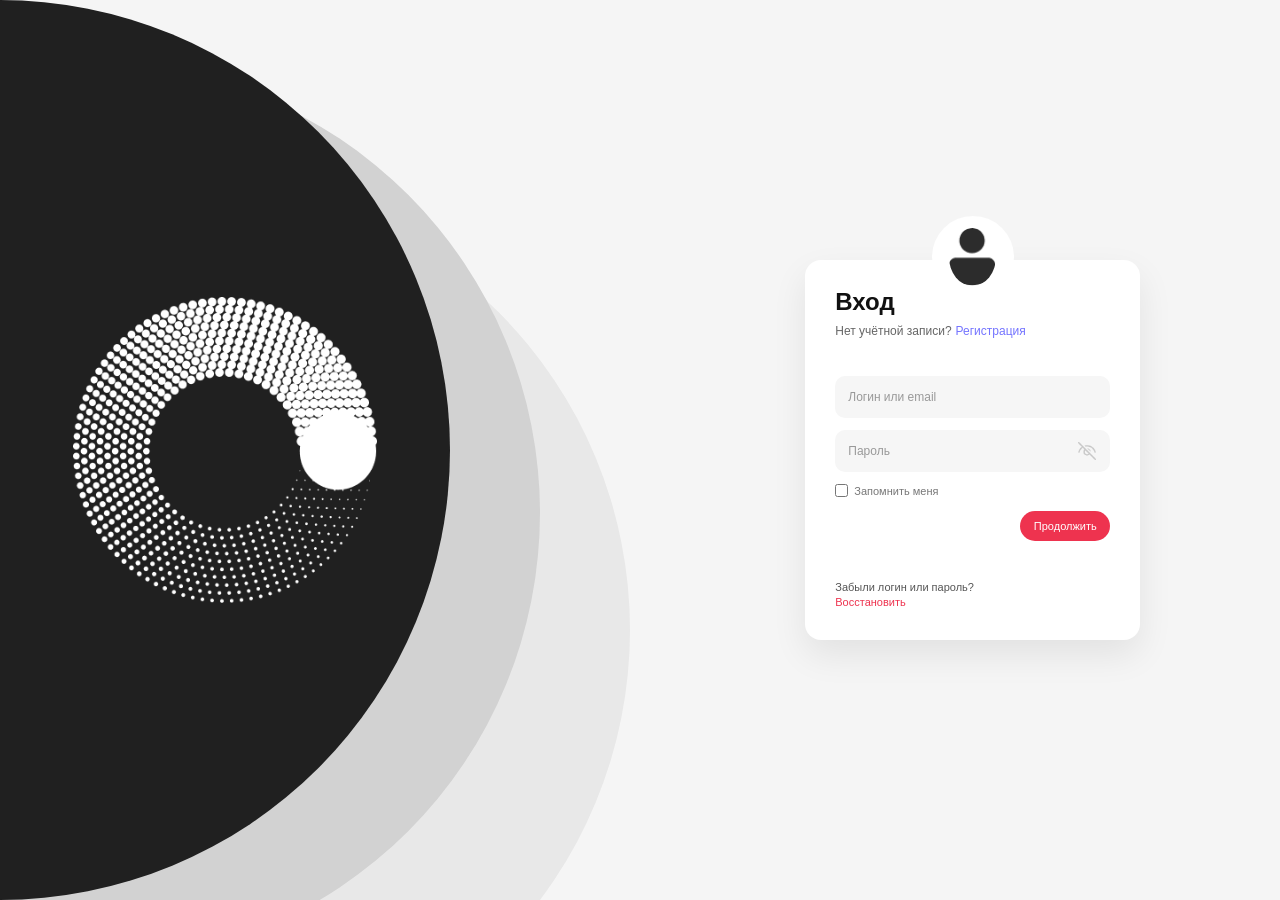
connected app › shows invalid credentials, keeps the form and supports password visibility
The image size is (1280, 900).
Type "ivan" into the field labelled "Логин или email" at {"x": 973, "y": 397}, box [835, 376, 1110, 418]
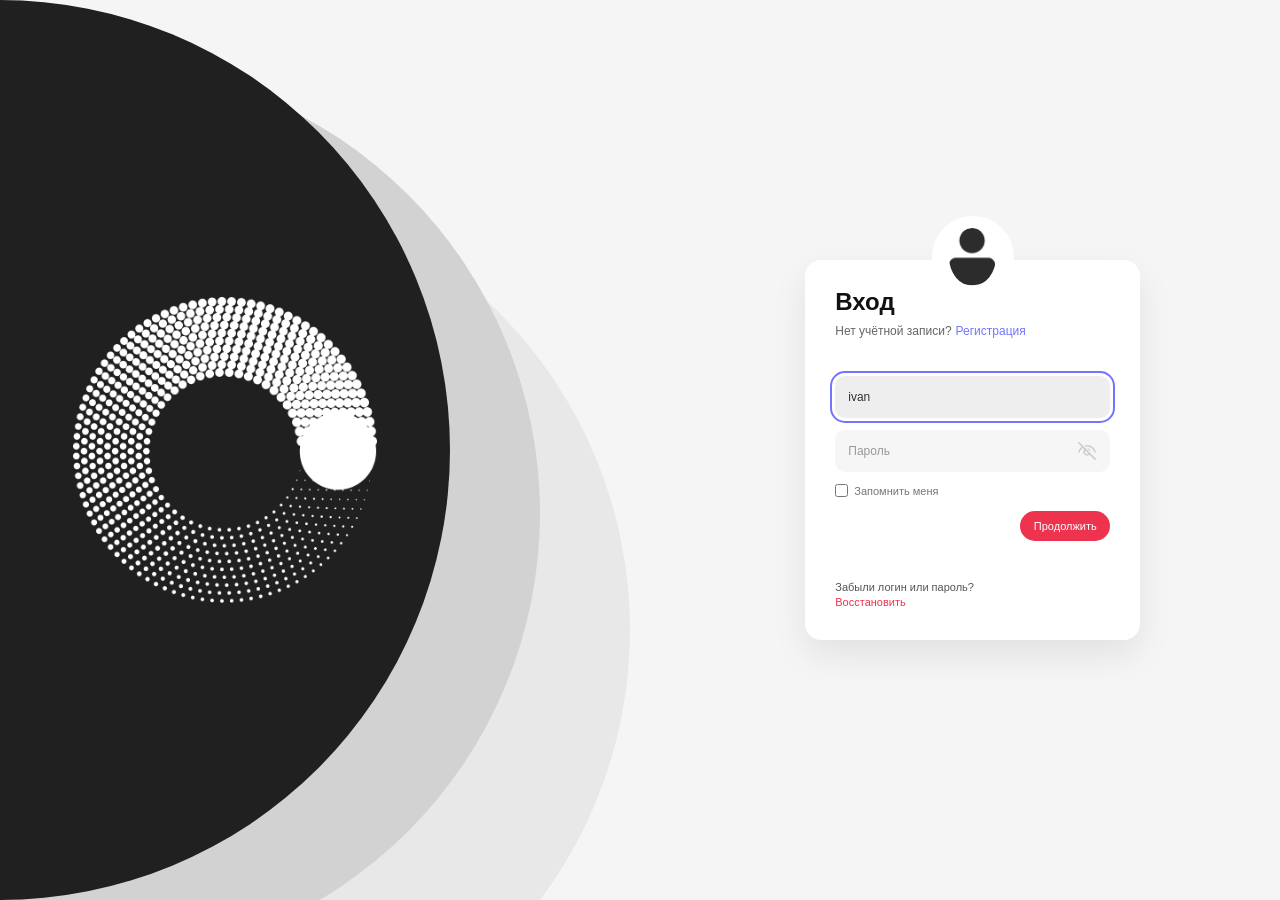
Type "wrong" into the password field labelled "Пароль" at {"x": 973, "y": 451}, box [835, 430, 1110, 472]
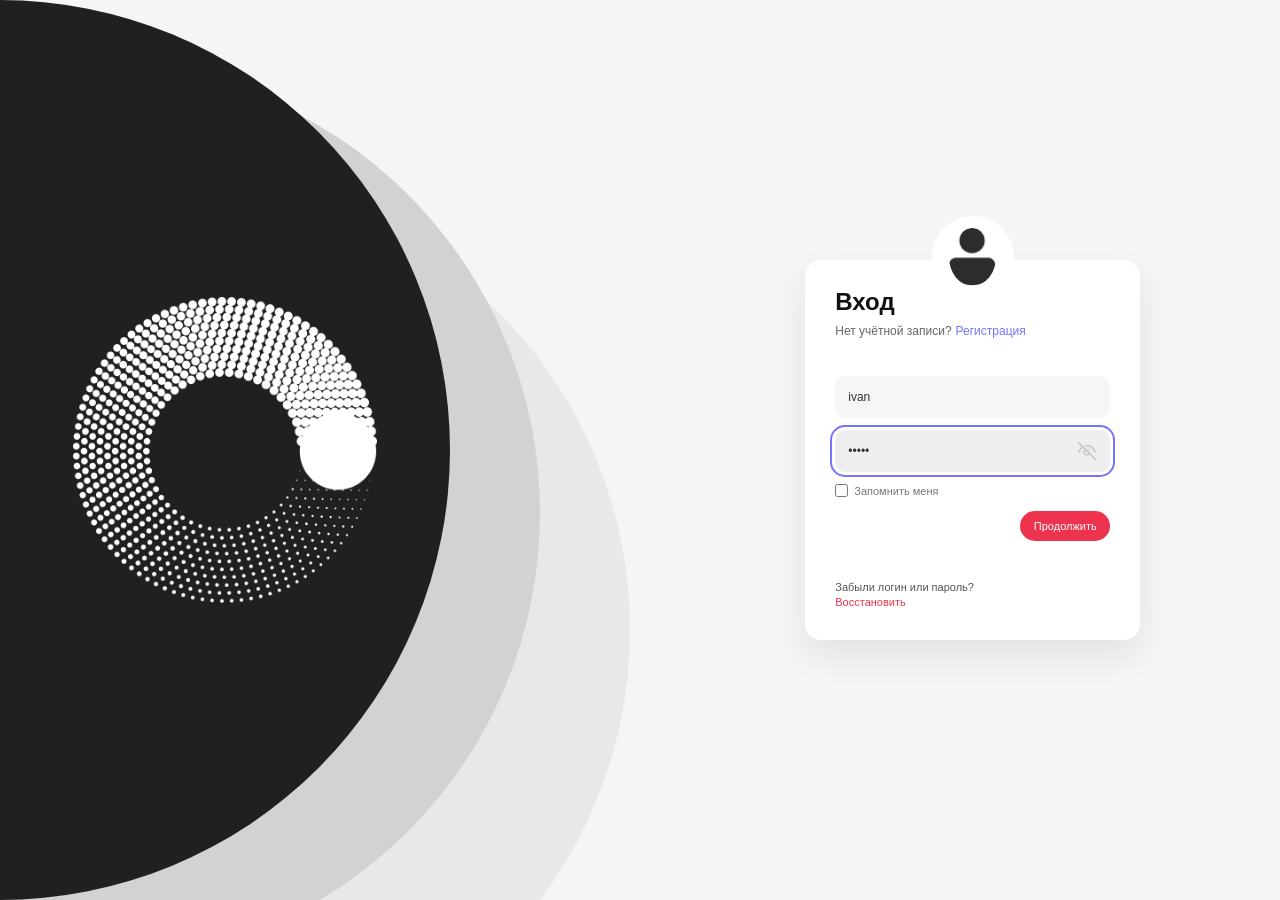
Click the button named "Показать пароль" at {"x": 1087, "y": 451}, box [1076, 440, 1098, 462]
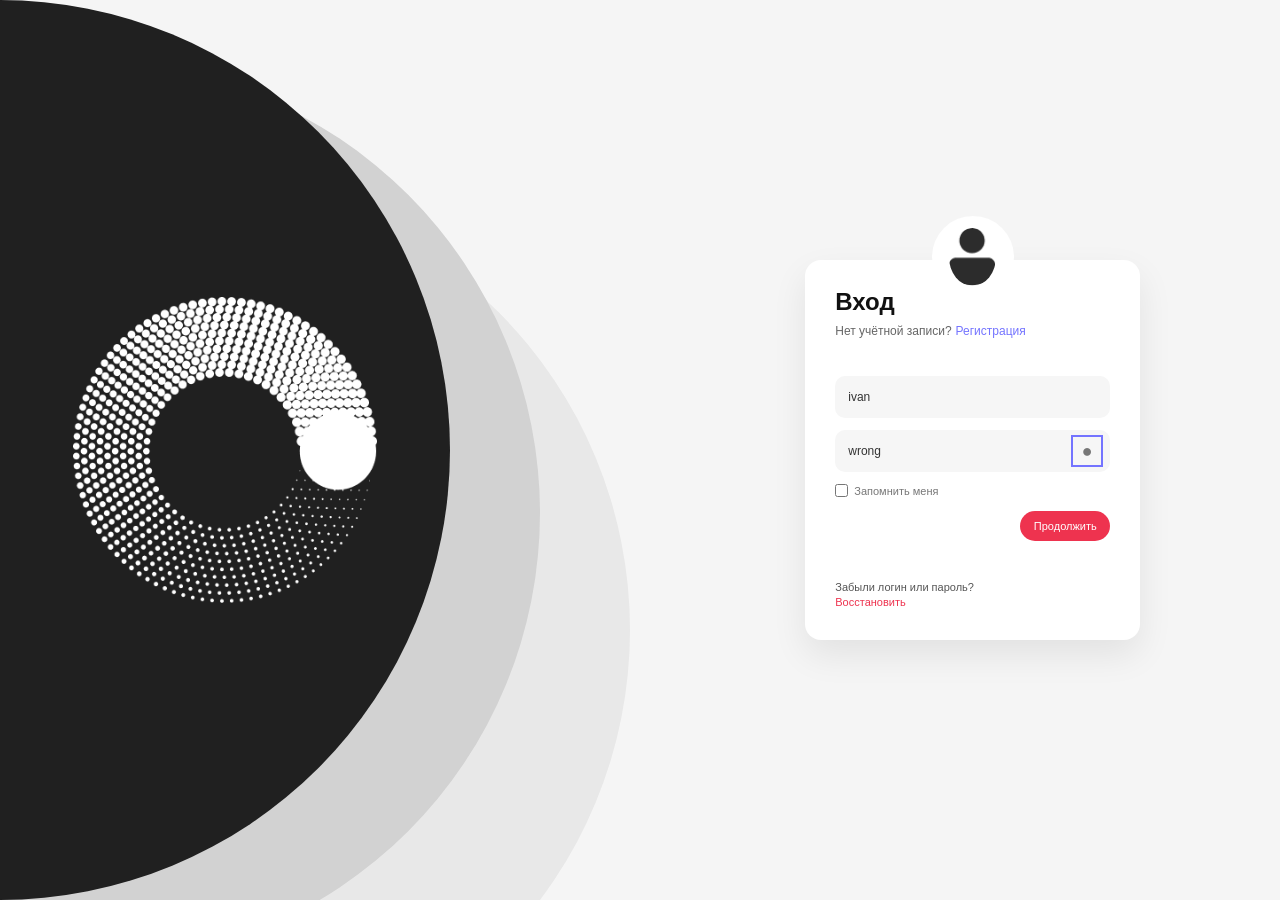
Result: the 2nd field named "Пароль" shows its text at [835, 430, 1110, 472]
Click the button "Продолжить" at {"x": 1065, "y": 526}, box [1020, 511, 1110, 541]
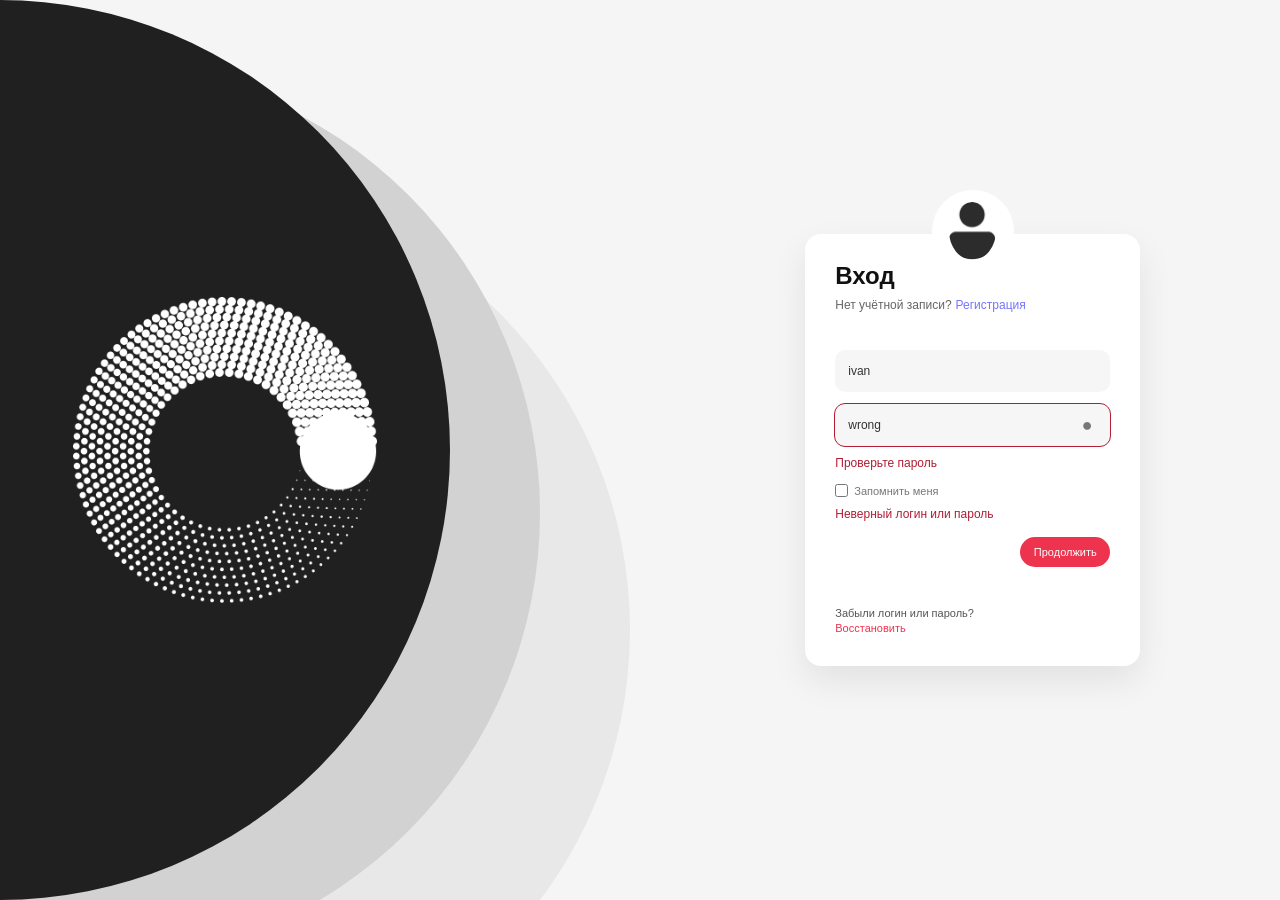
Expected: the button "Продолжить" is enabled, [1020, 537, 1110, 567]
Result: the message reads "Неверный логин или пароль" at [835, 507, 994, 521]
